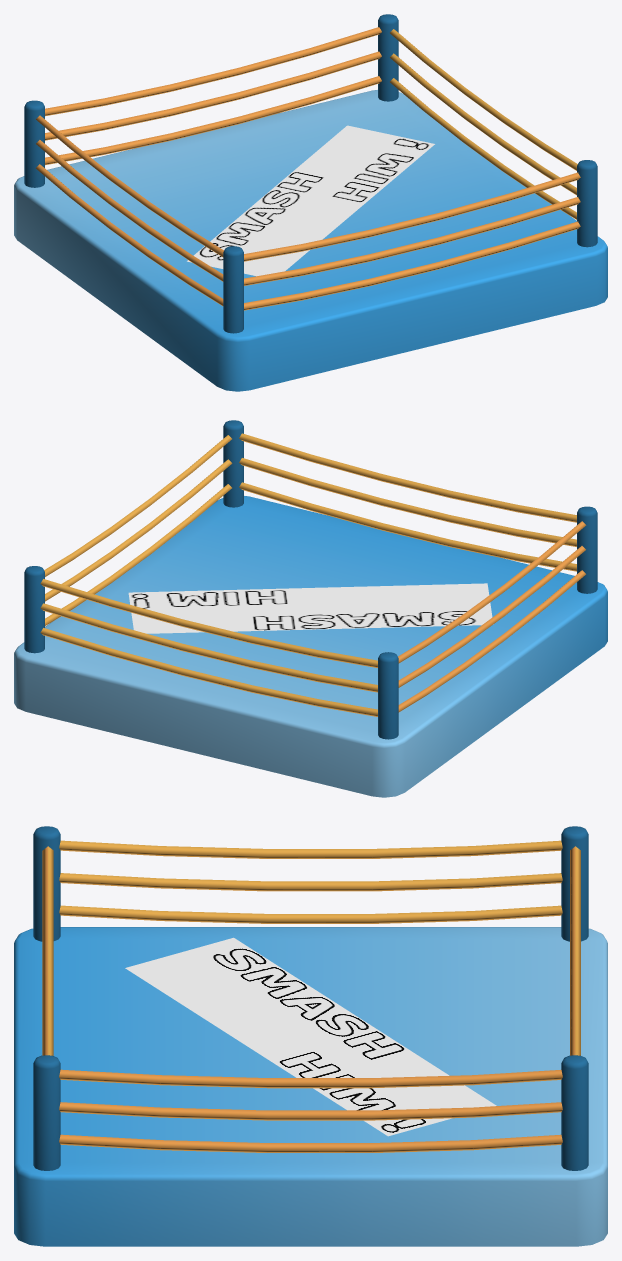
File: boxring.fbx
3 views of the same model, one above another, from view 1: azimuth 30°, elevation 25°; view 2: azimuth 150°, elevation 25°; view 3: azimuth 270°, elevation 25° (orthographic). The views are drawn at different scales.
Visible parts, largest first — view 1: boxring; view 2: boxring; view 3: boxring.
Part boxes in pixels (x1=…): boxring: x1=14, y1=14, x2=607, y2=391; boxring: x1=14, y1=420, x2=607, y2=797; boxring: x1=14, y1=826, x2=607, y2=1246.
Bounding box in the file's own units: 16 × 5.25 × 16.
